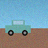vehicle: (5, 20, 30, 35)
